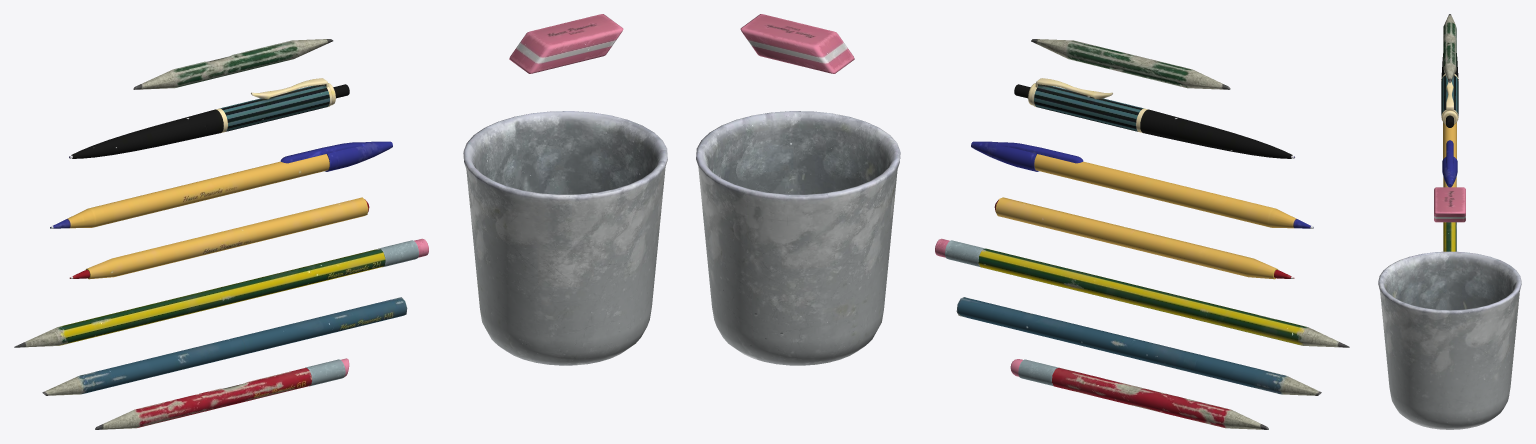
Rendered from stationery_supplies.glb.
The picture shows the model from 3 angles, left to right: view 1: azimuth 30°, elevation 25°; view 2: azimuth 150°, elevation 25°; view 3: azimuth 270°, elevation 25°; orthographic projection. The views are drawn at different scales.
Parts seen in each view (by area): view 1: stationery_supplies_pen_red; view 2: stationery_supplies_pen_red; view 3: stationery_supplies_pen_red.
Boxes of the visible parts, <box> form: stationery_supplies_pen_red: <box>14,14,667,429</box>; stationery_supplies_pen_red: <box>696,14,1349,429</box>; stationery_supplies_pen_red: <box>1378,14,1521,429</box>.
Size of the model in its own units: 0.3019 by 0.1644 by 0.0837.
1 material, 1 textured.
